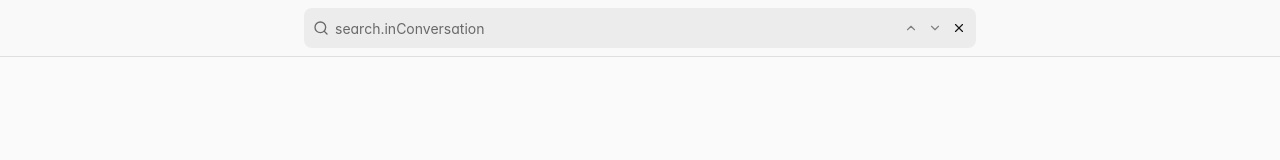
Test: ConversationSearch › finds messages matching search query
Type "hello" into the field labelled "search.inConversation" at (614, 28), box top-left (329, 12), bottom-right (899, 44)
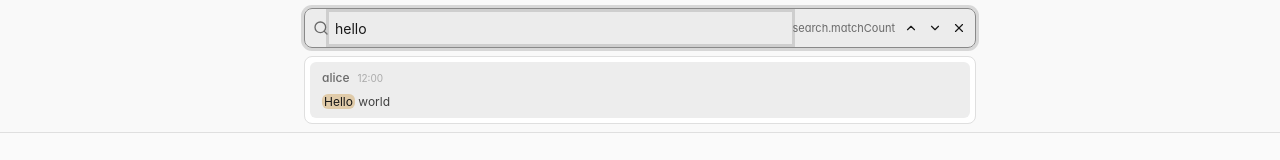
Expected: the text "Hello world" is shown, top-left (322, 94), bottom-right (390, 110)
